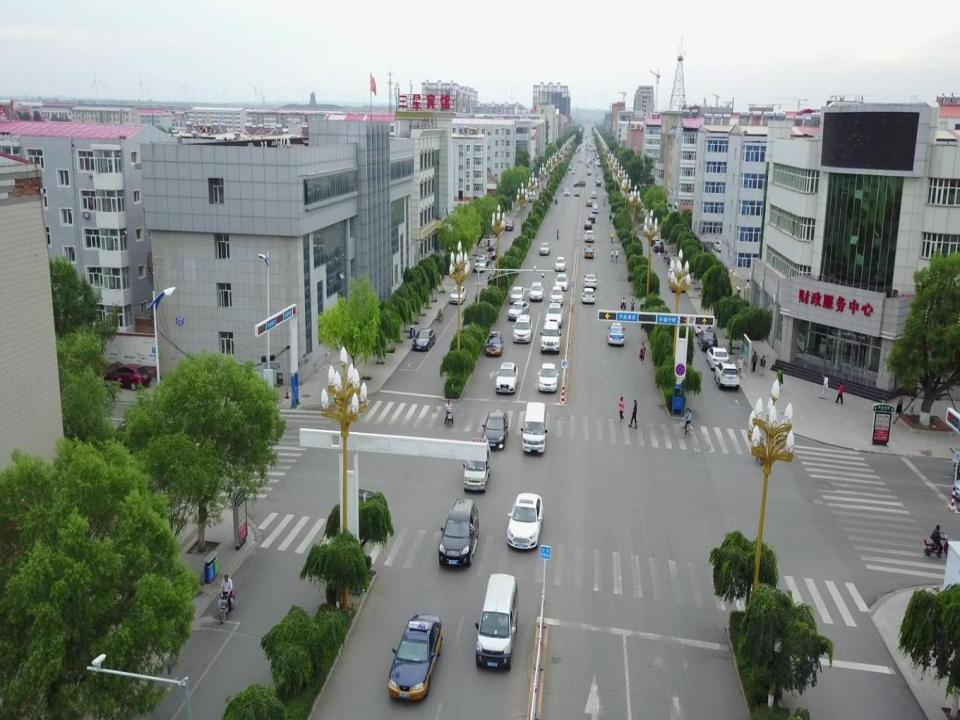car: (387, 613, 445, 701), (433, 497, 480, 567), (506, 492, 544, 550), (100, 364, 151, 394), (481, 410, 509, 449), (493, 362, 521, 396), (715, 362, 739, 390), (216, 590, 236, 623), (706, 345, 730, 371), (540, 321, 560, 352), (537, 364, 558, 392), (512, 314, 532, 342), (412, 327, 435, 350), (484, 330, 504, 356), (507, 298, 530, 320), (607, 321, 625, 346), (698, 330, 719, 351), (544, 302, 564, 324), (446, 286, 466, 304), (580, 287, 597, 306), (528, 282, 544, 302), (549, 286, 564, 303), (510, 287, 524, 305), (554, 272, 568, 289), (582, 273, 598, 287), (473, 255, 486, 271), (554, 257, 566, 272), (582, 245, 594, 259), (538, 242, 550, 256), (652, 241, 666, 252), (479, 252, 491, 264), (486, 246, 497, 258), (504, 219, 515, 231), (583, 230, 594, 241), (650, 233, 661, 244), (712, 240, 724, 250), (646, 224, 656, 235), (583, 219, 592, 230), (590, 202, 598, 214), (584, 198, 592, 206), (573, 187, 580, 196), (564, 187, 570, 197), (587, 213, 595, 220), (590, 190, 597, 198)
van: (462, 437, 492, 493), (520, 401, 548, 452), (692, 315, 711, 335), (528, 190, 536, 202)
